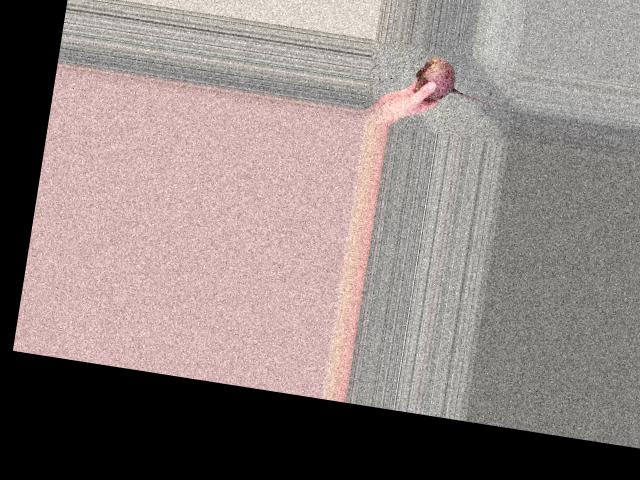beet: (413, 54, 496, 108)
